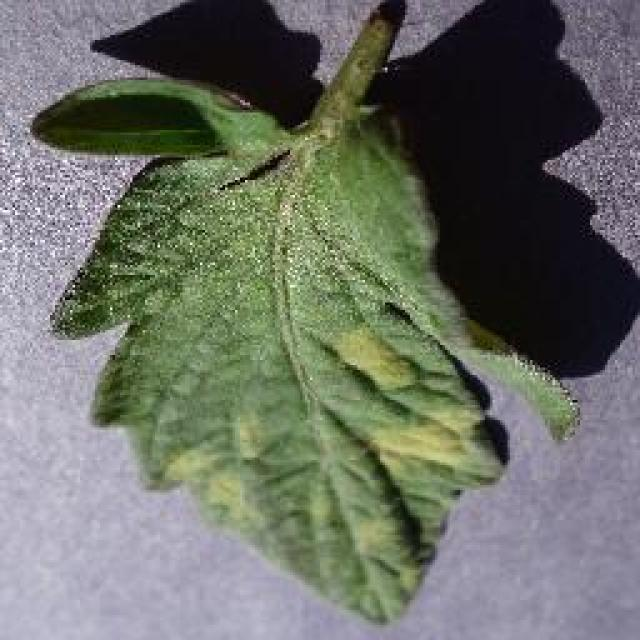Tomato mold leaf: (33, 74, 585, 628)
